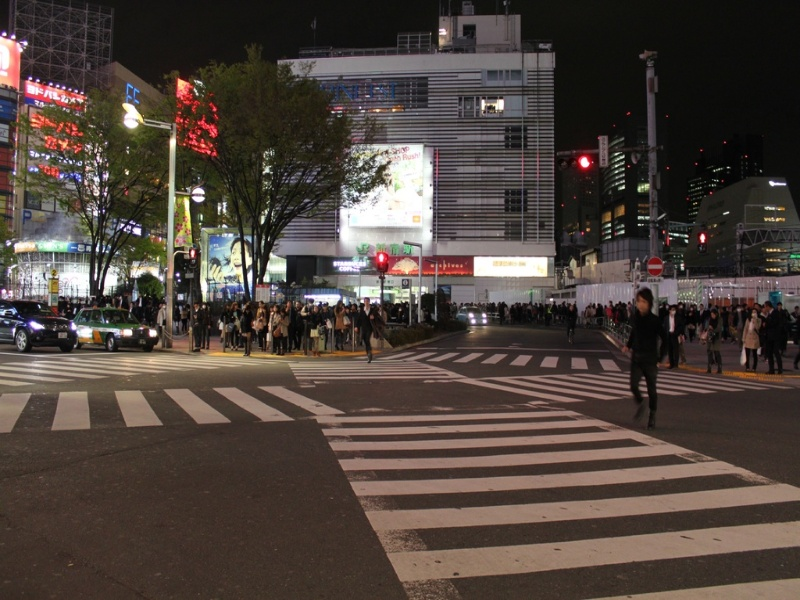red_light: (571, 150, 593, 171)
